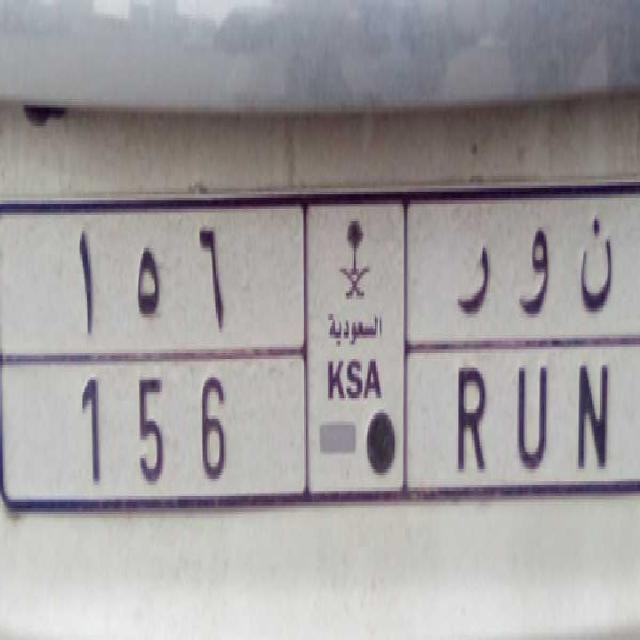license_plate: (5, 346, 636, 517)
